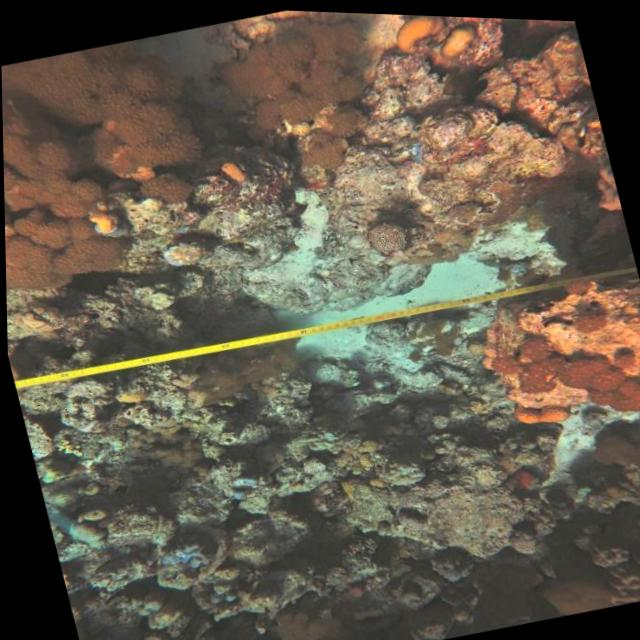Healthy Coral: (0, 22, 241, 307), (463, 263, 640, 453), (216, 6, 400, 185)
